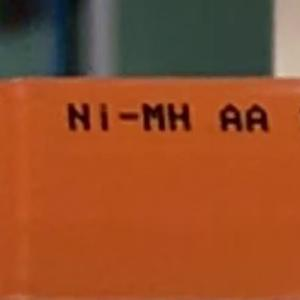keyword: (58, 94, 201, 140)
